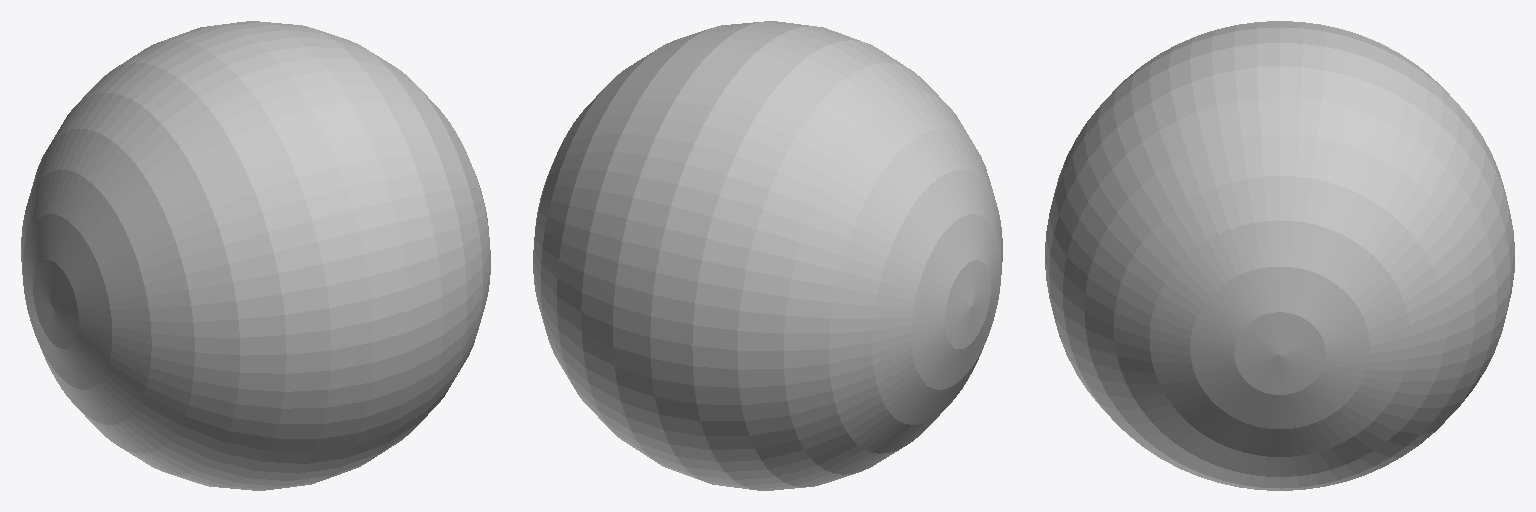
File: mercuryBuilt.obj
The picture shows the model from 3 angles: view 1: azimuth 30°, elevation 25°; view 2: azimuth 150°, elevation 25°; view 3: azimuth 270°, elevation 25°; orthographic projection.
Visible parts, largest first — view 1: Plane; view 2: Plane; view 3: Plane.
Boxes of the visible parts, box(x1,y1,x2,y2) form: Plane: box(21, 21, 490, 490); Plane: box(533, 21, 1002, 490); Plane: box(1045, 21, 1514, 490).
Bounding box in the file's own units: 1.27 × 1.27 × 1.27.